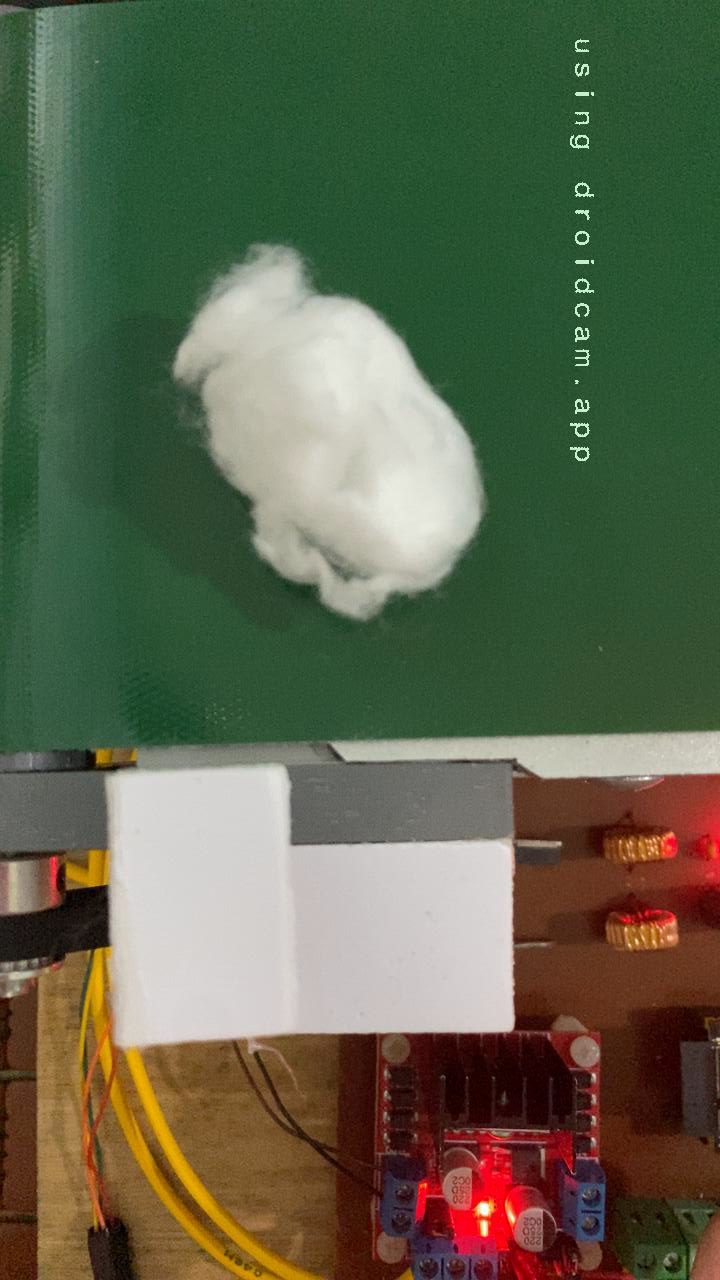cotton: (167, 240, 492, 626)
